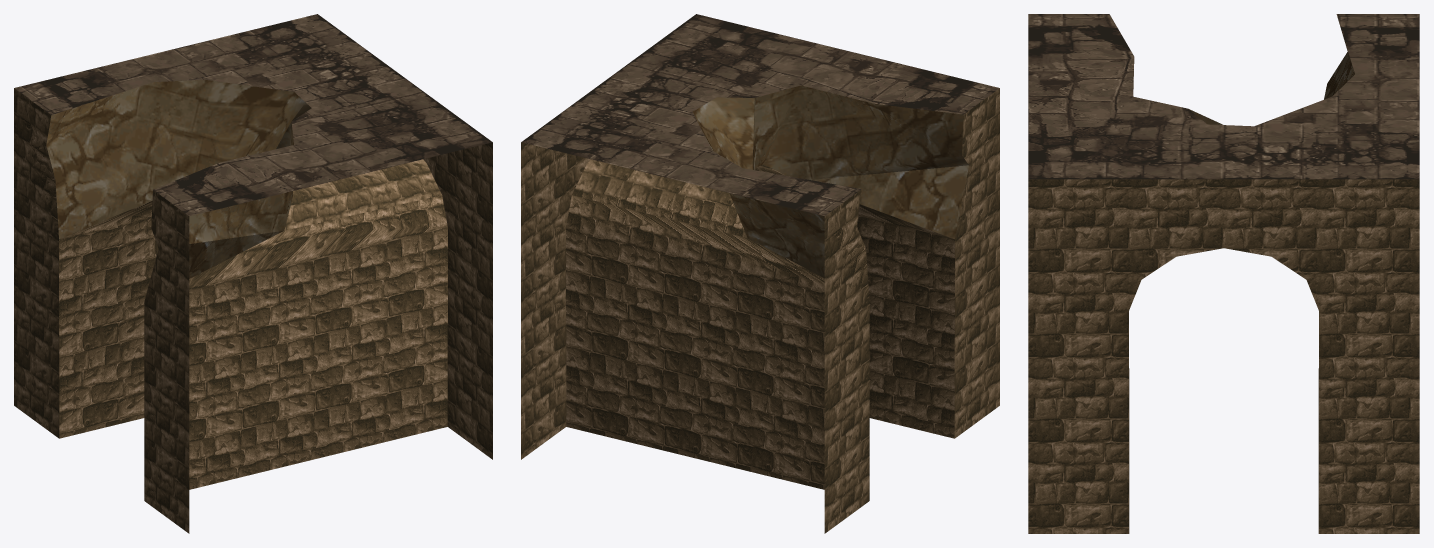
The model's file is Battle04_Wall_03.FBX.
3 renders of one model, left to right at view 1: azimuth 30°, elevation 25°; view 2: azimuth 150°, elevation 25°; view 3: azimuth 270°, elevation 25°, orthographic. The views are drawn at different scales.
Parts seen in each view (by area): view 1: Battle04_Wall_03_02, Battle04_Wall_03_01, Battle04_Wall_03_03; view 2: Battle04_Wall_03_02, Battle04_Wall_03_01, Battle04_Wall_03_03; view 3: Battle04_Wall_03_02, Battle04_Wall_03_01, Battle04_Wall_03_03.
Boxes of the visible parts, <box> form: Battle04_Wall_03_02: <box>14,88,492,533</box>; Battle04_Wall_03_01: <box>14,14,492,216</box>; Battle04_Wall_03_03: <box>46,79,311,278</box>; Battle04_Wall_03_02: <box>521,88,999,533</box>; Battle04_Wall_03_01: <box>521,14,999,216</box>; Battle04_Wall_03_03: <box>693,85,968,277</box>; Battle04_Wall_03_02: <box>1028,179,1419,533</box>; Battle04_Wall_03_01: <box>1028,14,1419,179</box>; Battle04_Wall_03_03: <box>1189,26,1354,124</box>.
Size of the model in its own units: 16 by 16 by 16.
